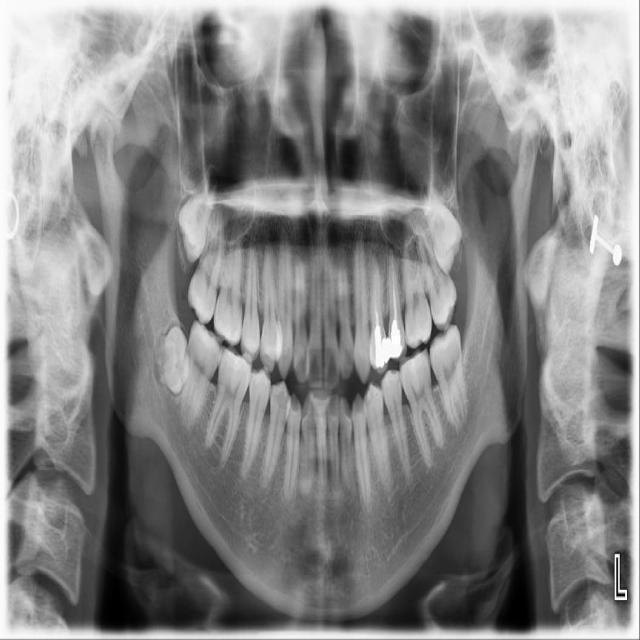Root Canal Treatment: (391, 264, 396, 316), (375, 293, 381, 319)
